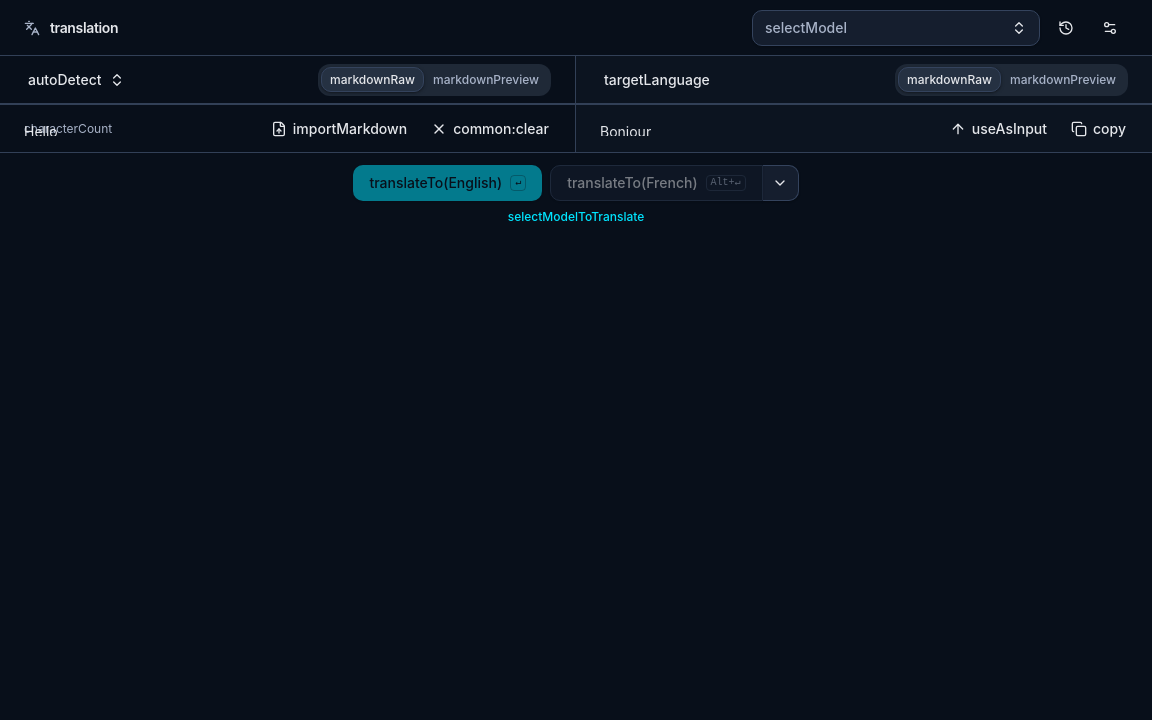
Test: TranslationContent › disables translation without a model and offers to pick one
The width and height of the screenshot is (1152, 720).
Expected: the button with aria-label "translateToWithShortcut(English|Enter)" is disabled, 353,165 -> 542,201
Expected: the button with aria-label "translateToWithShortcut(French|Alt+Enter)" is disabled, 550,165 -> 763,201
What coordinates should you click on to do the following:
click the button "selectModelToTranslate"
I would click on:
 (576, 217)
Its box is 508,209 -> 644,225.
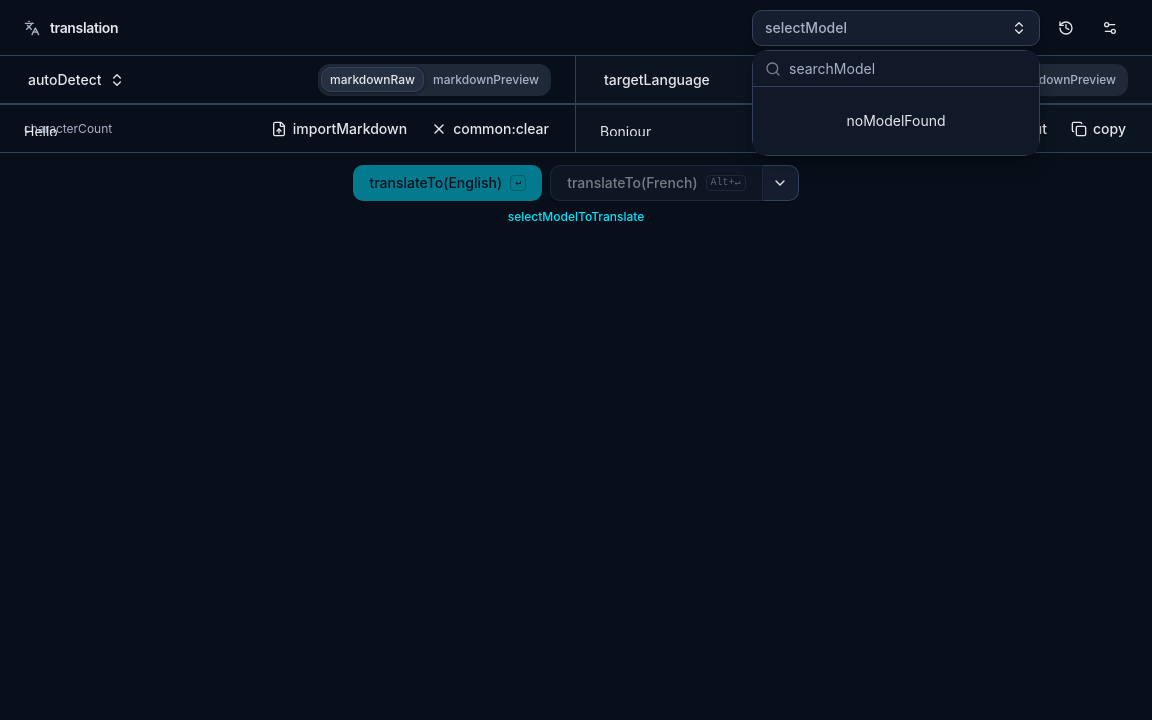
Result: the dropdown with placeholder "searchModel" is shown at 789,51 -> 1027,88
